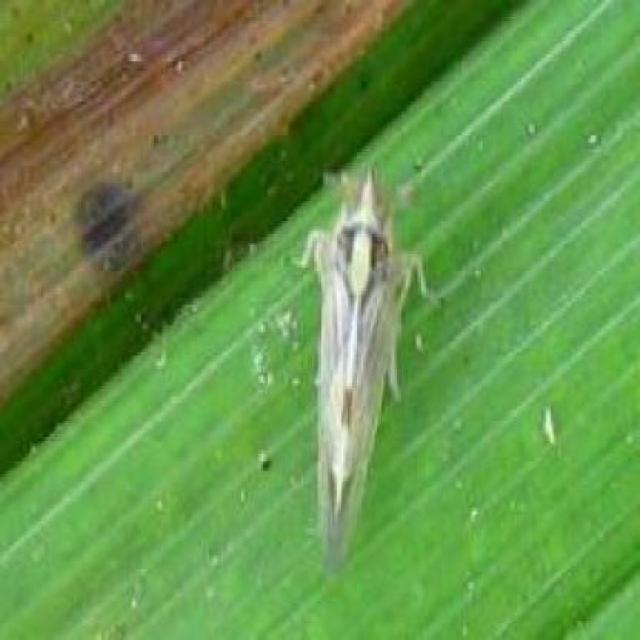brown-planthopper: (304, 169, 414, 571)
